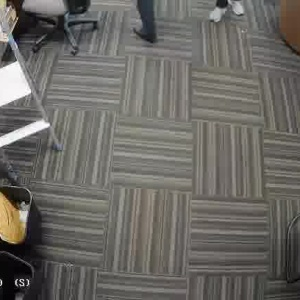person: (134, 0, 159, 46)
